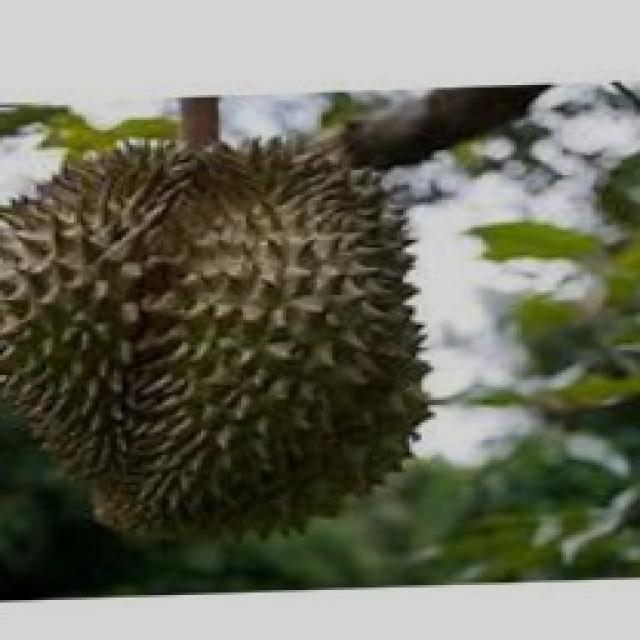fruit: (3, 115, 459, 580)
